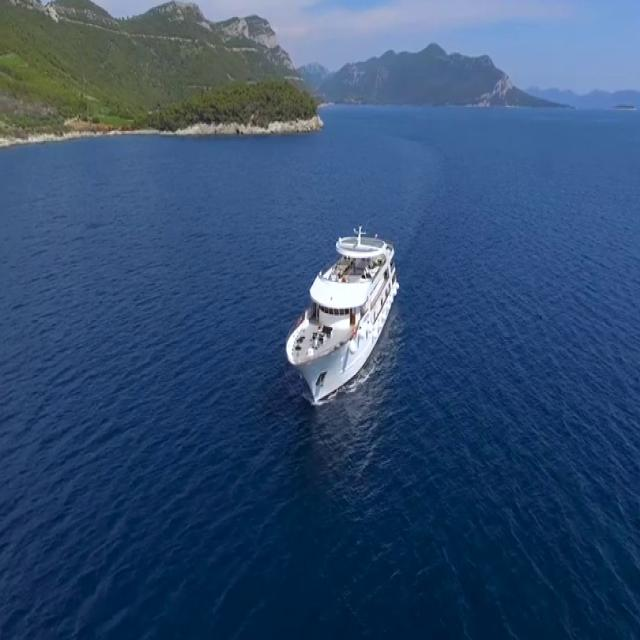passenger ship: (276, 222, 399, 403)
